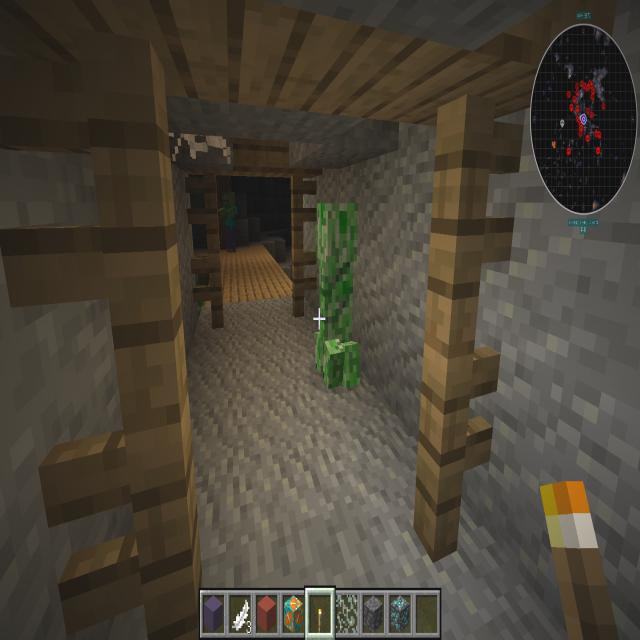Creeper: (302, 196, 366, 400)
Zombie: (214, 184, 244, 258)
